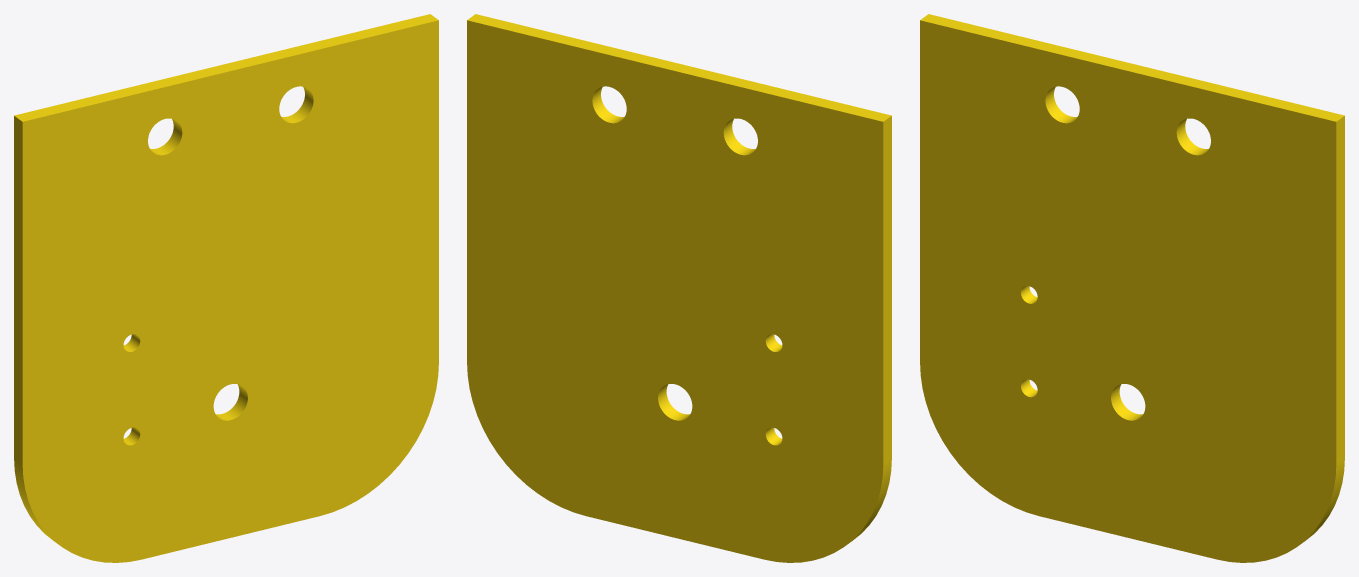
The model's file is A26_H107_bodyCover.gltf.
The picture shows the model from 3 angles, left to right: view 1: azimuth 30°, elevation 25°; view 2: azimuth 150°, elevation 25°; view 3: azimuth 330°, elevation 25°; orthographic projection.
Visible parts, largest first — view 1: mesh3548, mesh3555, mesh3550; view 2: mesh3549, mesh3555, mesh3550; view 3: mesh3548, mesh3555, mesh3551.
Part boxes in pixels (x1,y1,x2,y2): mesh3548: (22,20,438,562); mesh3555: (14,14,438,121); mesh3550: (14,116,22,463); mesh3549: (467,20,883,562); mesh3555: (467,14,891,121); mesh3550: (883,116,891,463); mesh3548: (920,20,1336,562); mesh3555: (920,14,1344,121); mesh3551: (1336,116,1344,463).
Bounding box in the file's own units: 0.0444 × 0.0476 × 0.00159.
